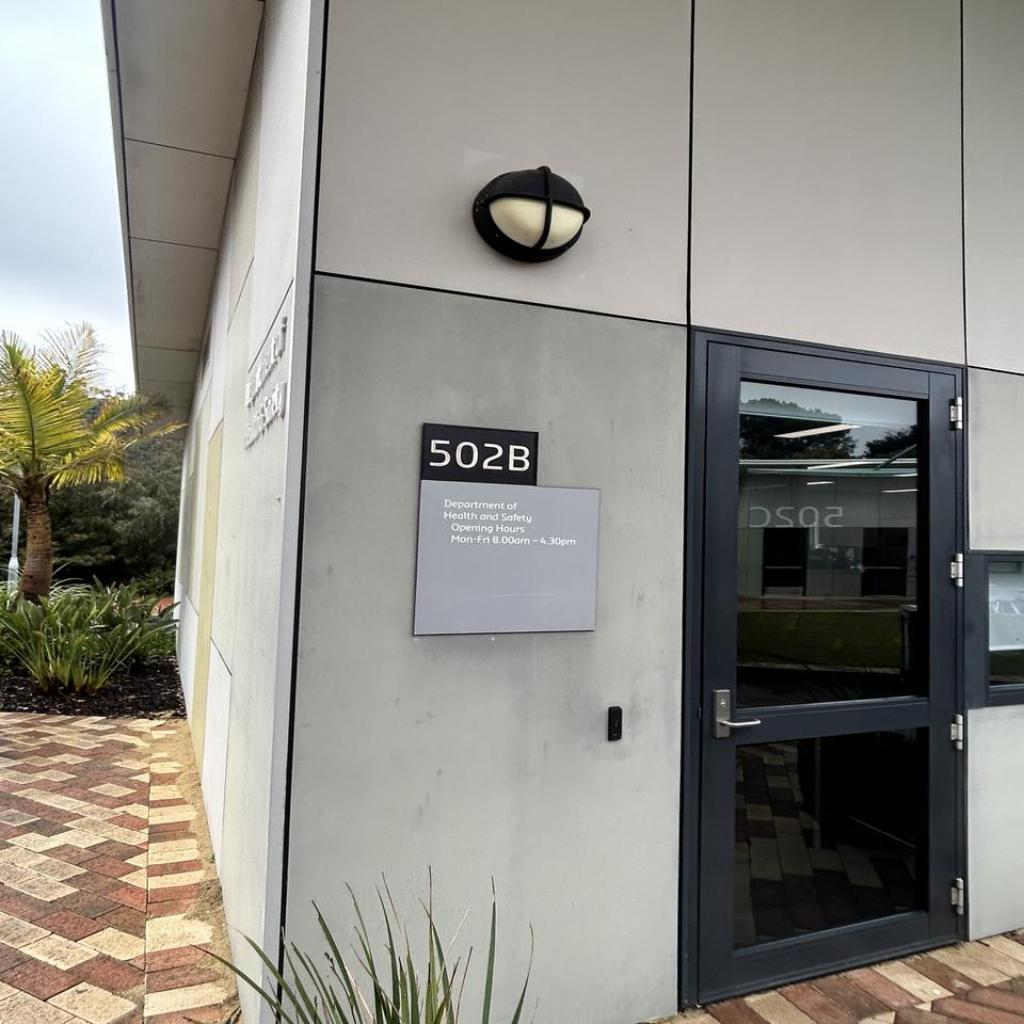BuildingCodes: (429, 436, 531, 472)
